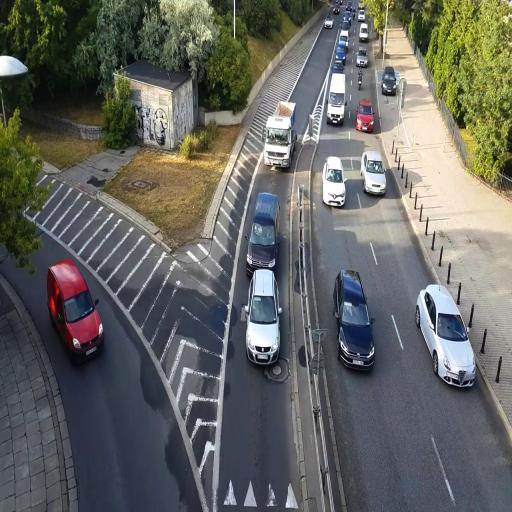vehicle: (414, 283, 476, 389), (46, 257, 105, 365), (333, 269, 375, 370), (244, 269, 282, 366), (246, 190, 278, 274), (264, 100, 299, 171), (322, 156, 346, 208), (362, 149, 386, 195), (356, 99, 374, 133), (381, 68, 398, 95), (358, 16, 371, 42), (356, 47, 368, 68)
